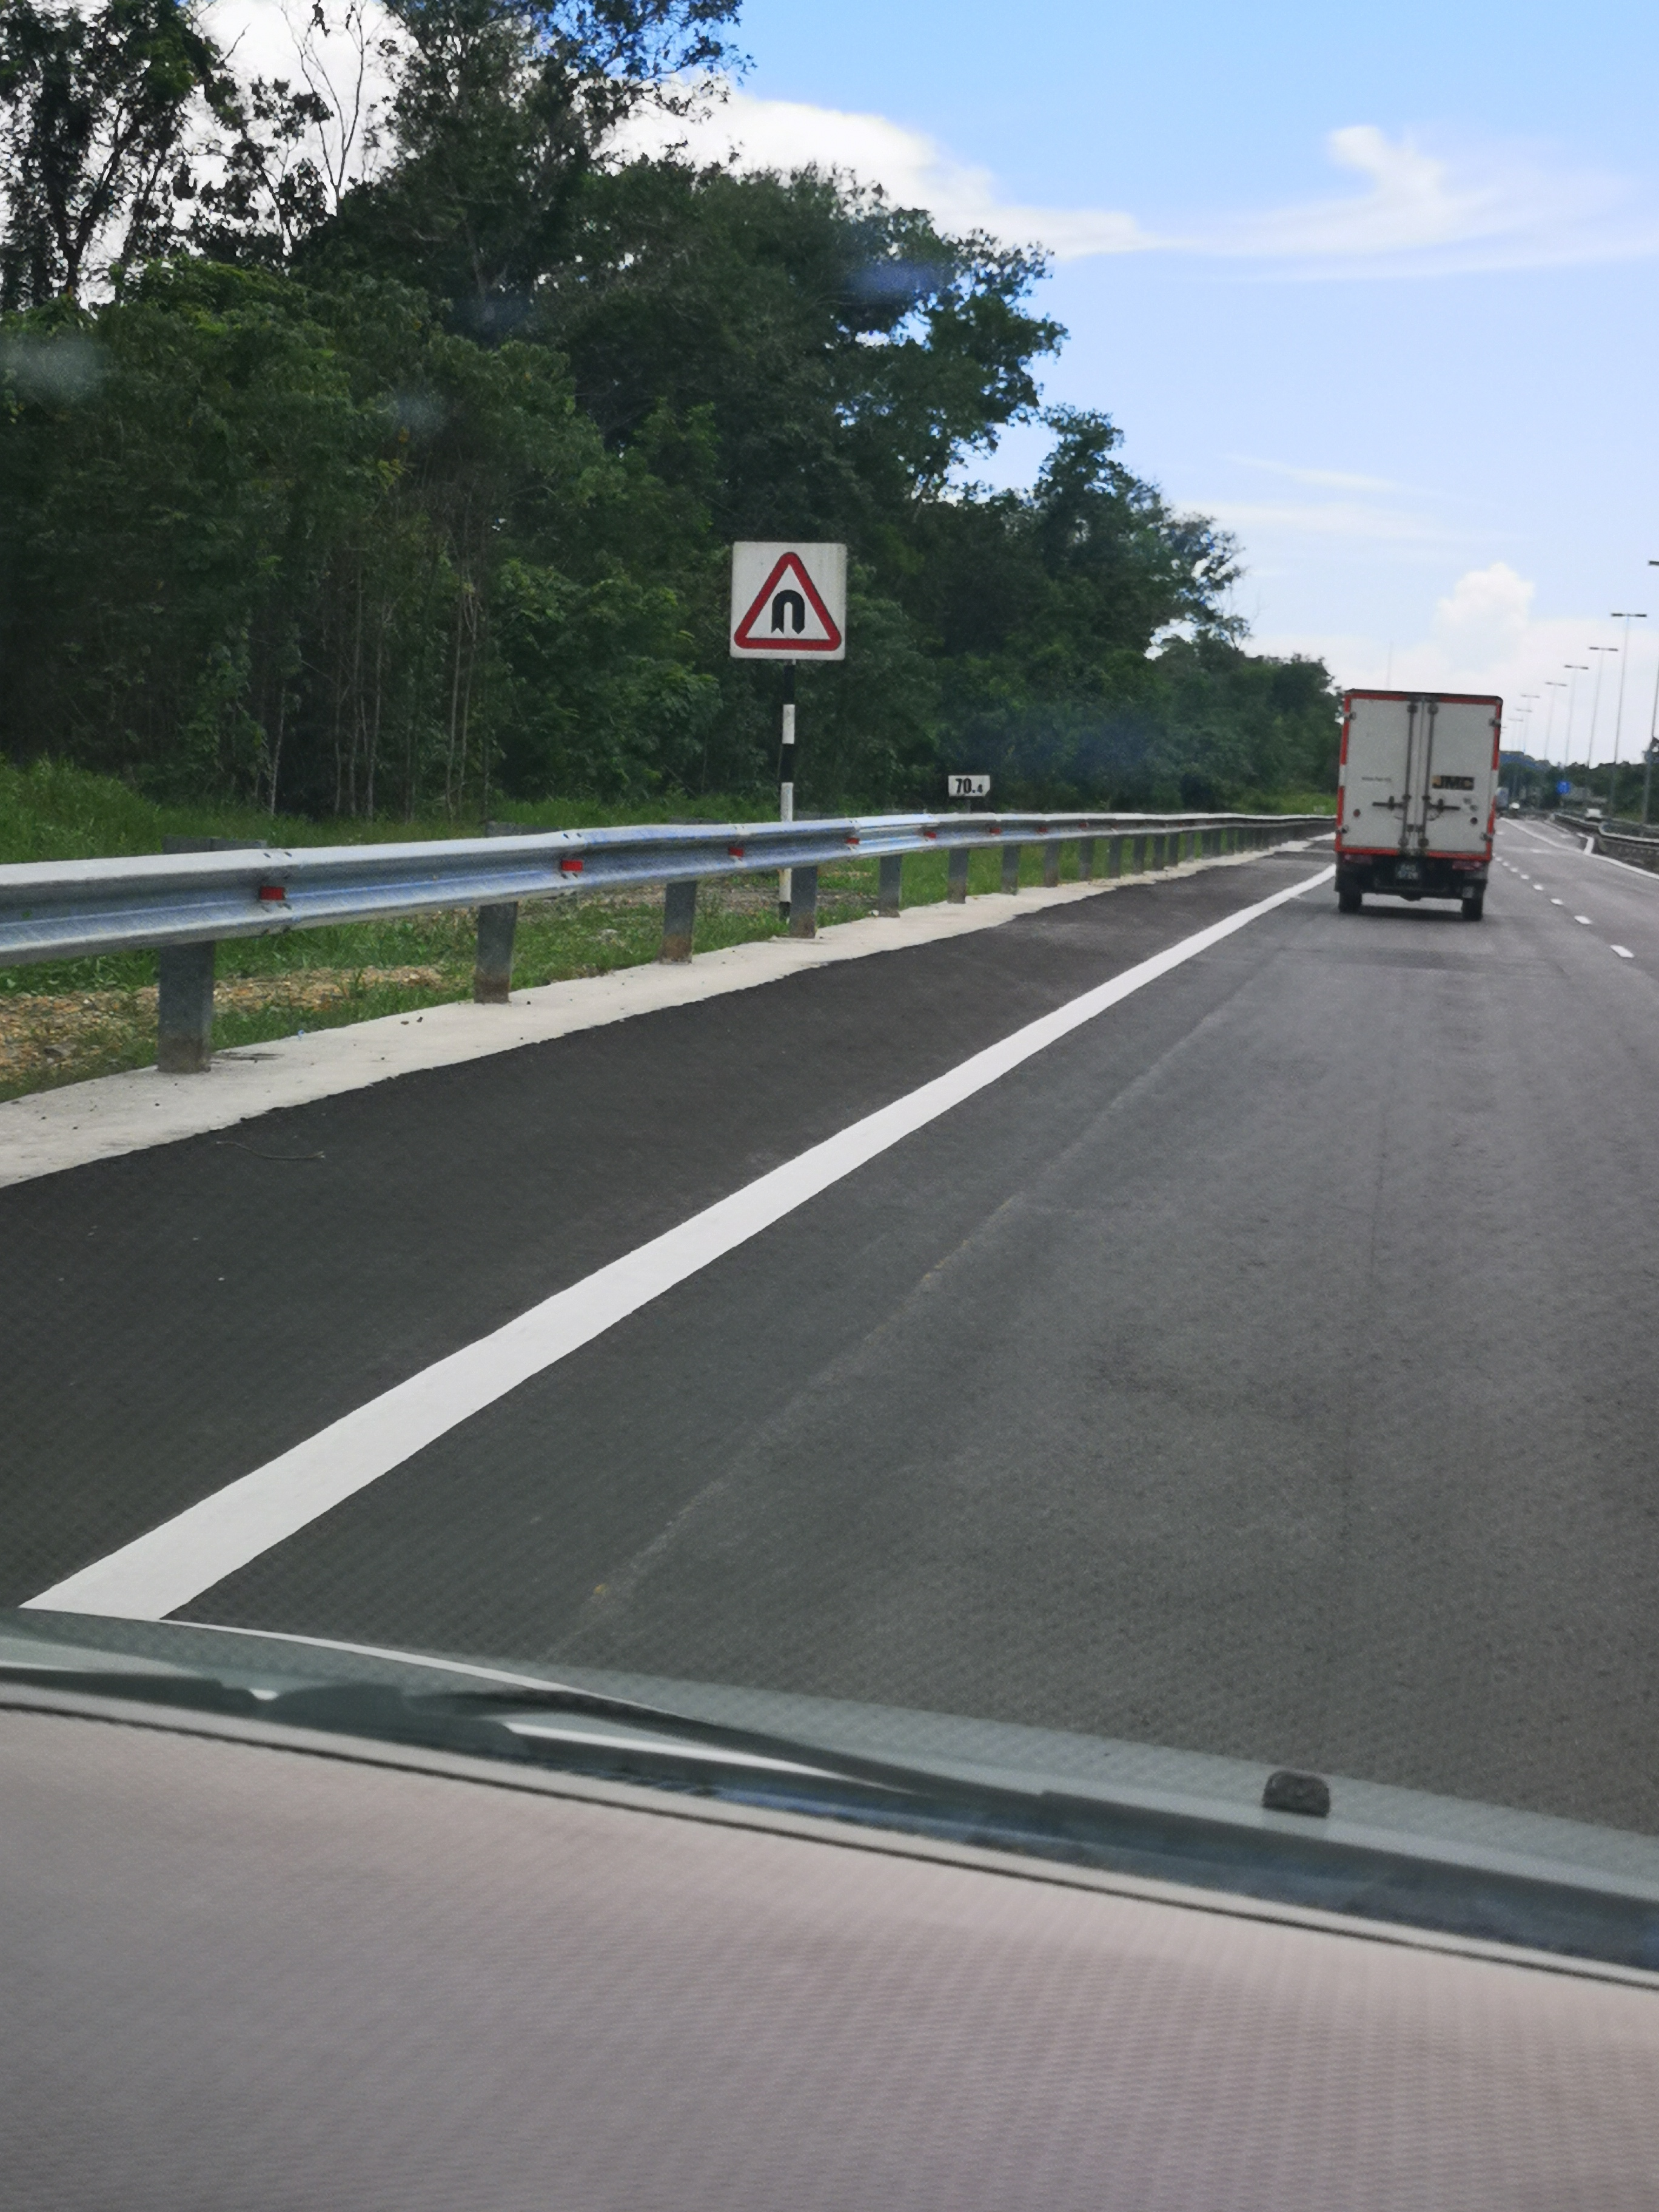U-turn: (721, 531, 852, 672)
